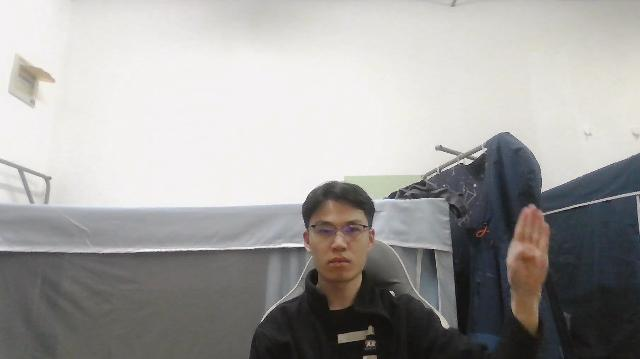four: (505, 203, 551, 286)
